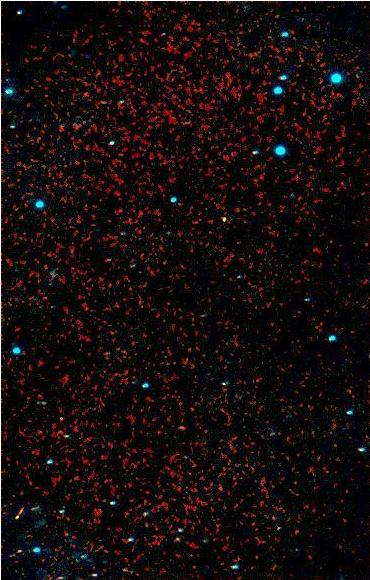star: (209, 203, 239, 233)
